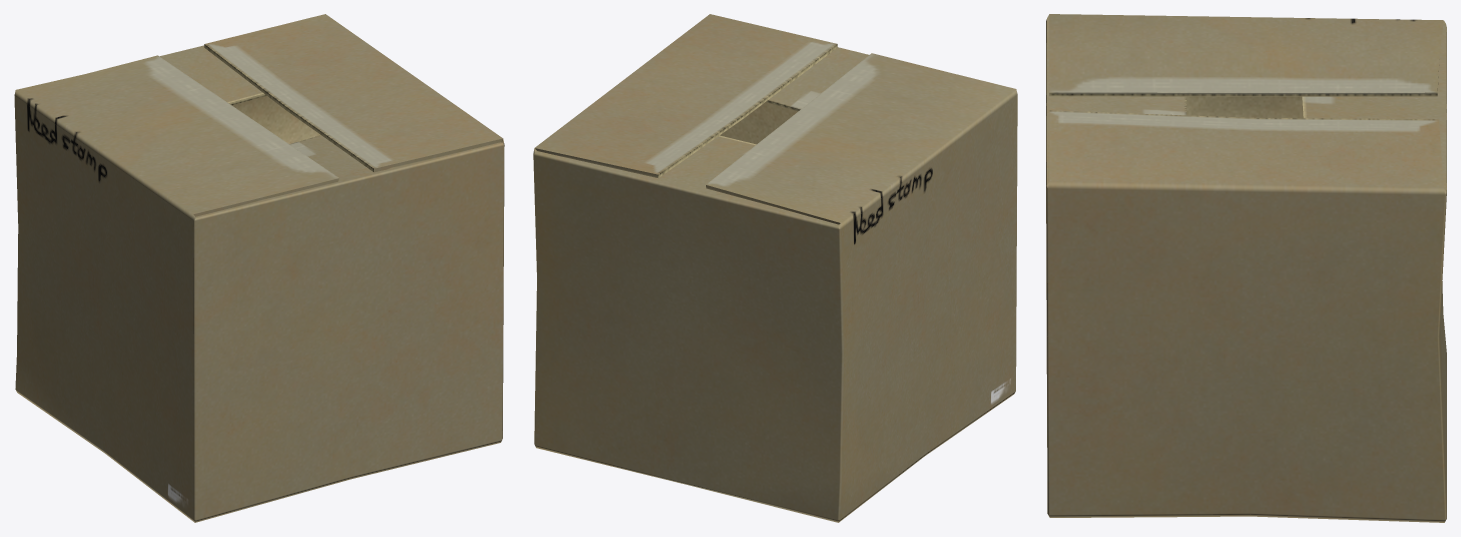
The model's file is SM_Boxes_01d.fbx.
The picture shows the model from 3 angles, left to right: view 1: azimuth 30°, elevation 25°; view 2: azimuth 150°, elevation 25°; view 3: azimuth 270°, elevation 25°; orthographic projection. The views are drawn at different scales.
Parts seen in each view (by area): view 1: SM_Boxes_01d_LOD0; view 2: SM_Boxes_01d_LOD0; view 3: SM_Boxes_01d_LOD0.
Part boxes in pixels (left/top/right/bottom): SM_Boxes_01d_LOD0: left=14, top=14, right=504, bottom=522; SM_Boxes_01d_LOD0: left=533, top=14, right=1017, bottom=522; SM_Boxes_01d_LOD0: left=1046, top=14, right=1446, bottom=522.
Bounding box in the file's own units: 57.13 × 57.36 × 54.46.
1 material, 1 textured.
